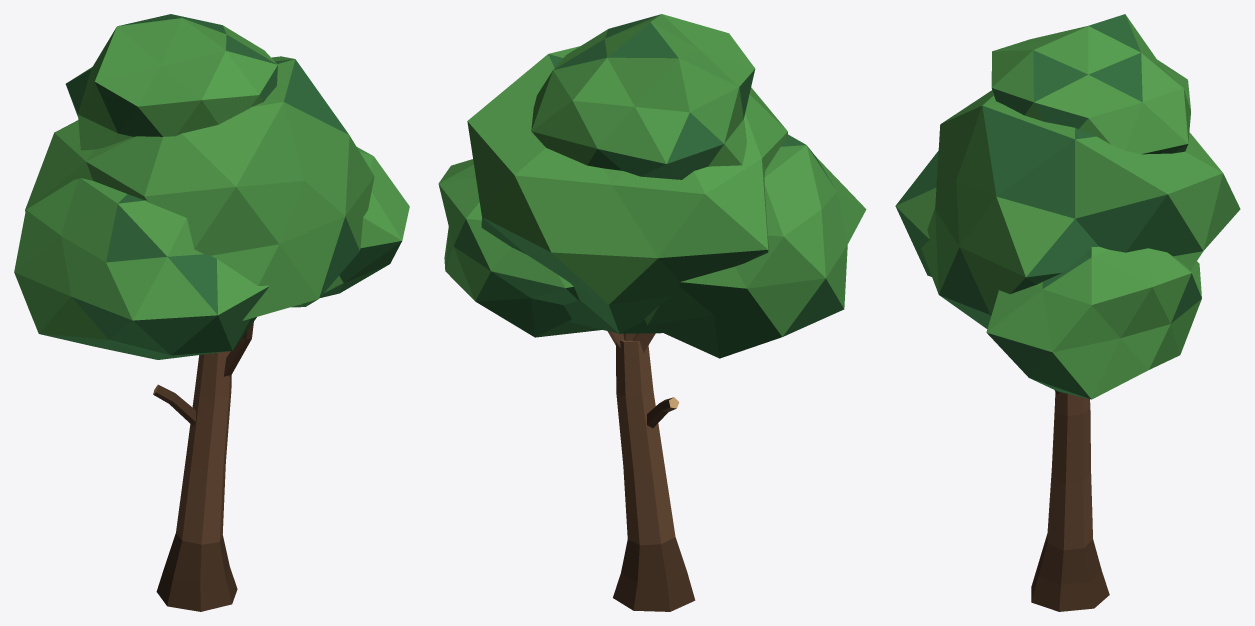
The model's file is tree_oak_a.glb.
3 renders of one model, left to right at view 1: azimuth 30°, elevation 25°; view 2: azimuth 150°, elevation 25°; view 3: azimuth 270°, elevation 25°, orthographic. The views are drawn at different scales.
Visible parts, largest first — view 1: tree_oak_a__mesh; view 2: tree_oak_a__mesh; view 3: tree_oak_a__mesh.
Boxes of the visible parts, x1,y1,x2,y2 form: tree_oak_a__mesh: [14, 14, 409, 611]; tree_oak_a__mesh: [438, 14, 866, 611]; tree_oak_a__mesh: [895, 14, 1240, 611].
Size of the model in its own units: 6.51 by 9.35 by 5.17.
2 materials, 2 textured.
